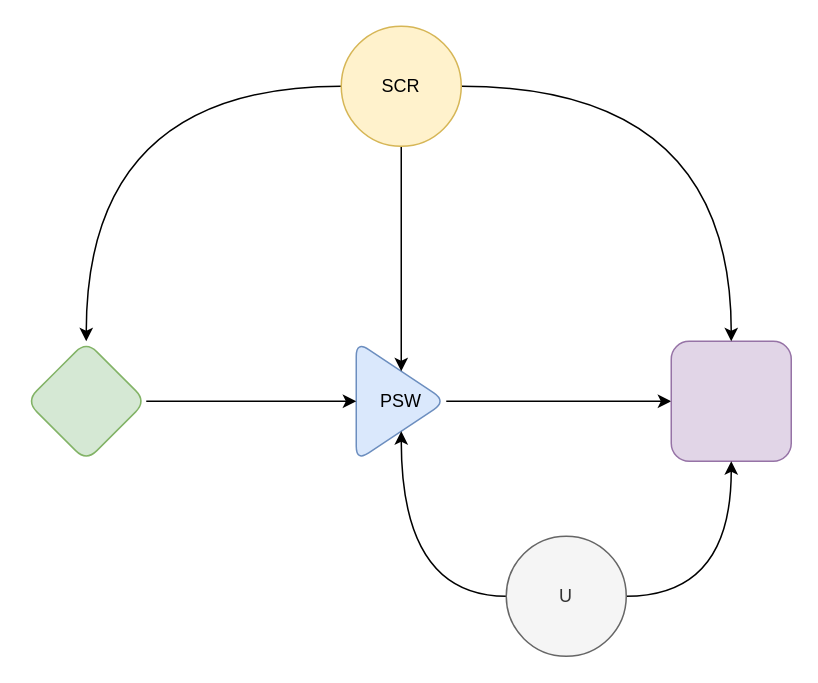
Some shapes in this 818 by 683 pixel diagram are drawn without their labels. The shapes that lost their labels are listed below. From the top down, each one's centre as x and y in pixels, then its label:
At (x=85, y=400): "SCW".
At (x=730, y=400): "Violence".
